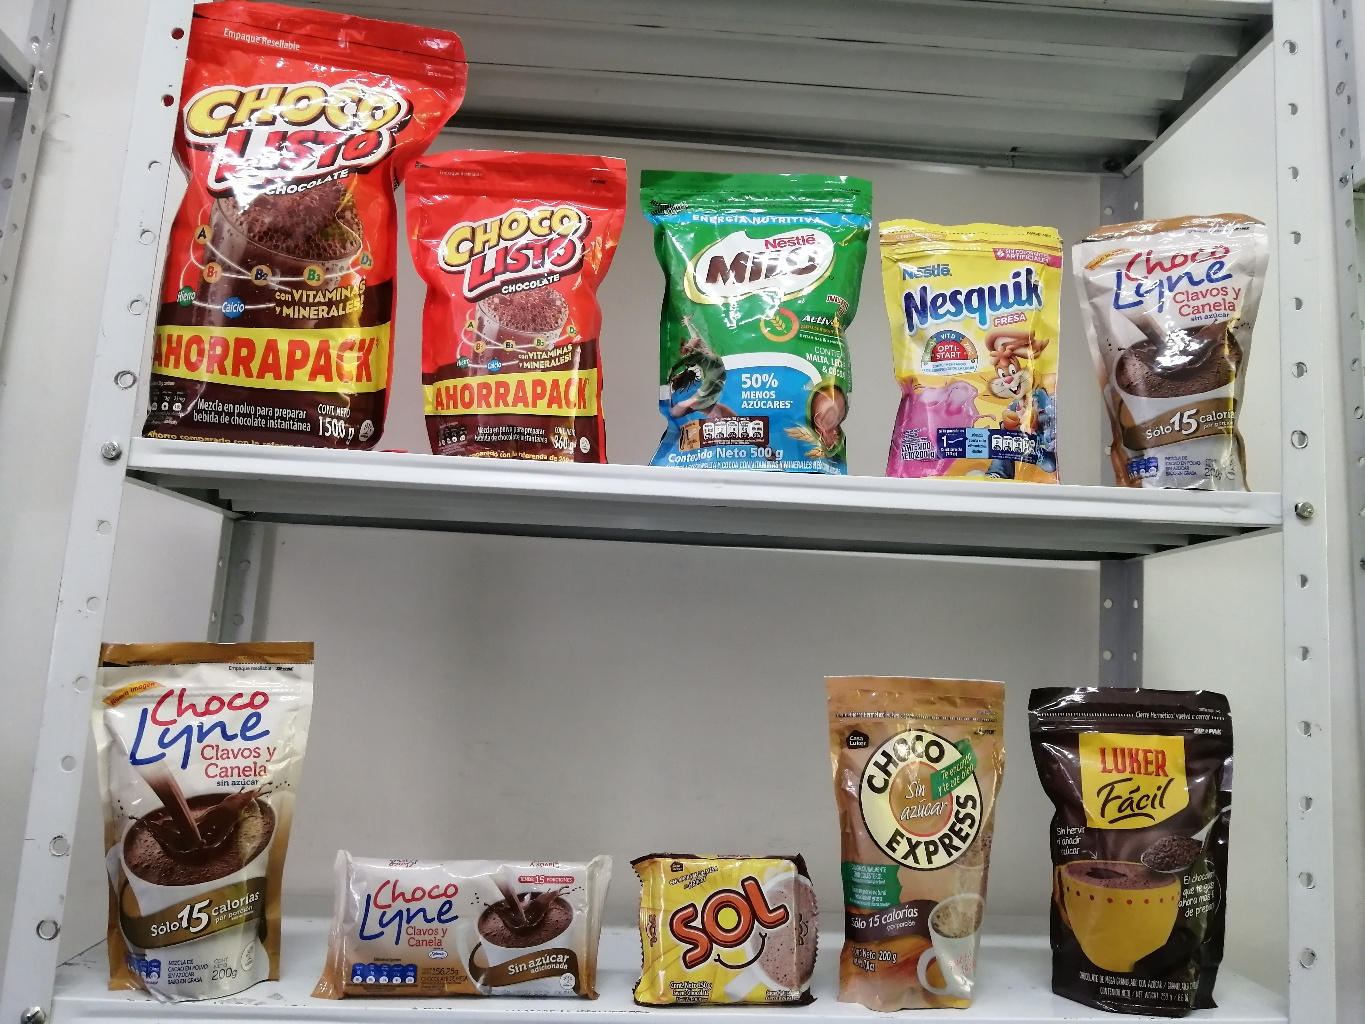COL0170103DYP1,500: (146, 0, 452, 446)
COL0170103DYP36000: (409, 134, 626, 461)
COL0170205DYP50000: (640, 154, 869, 467)
COL0170305DYP20000: (878, 199, 1076, 487)
